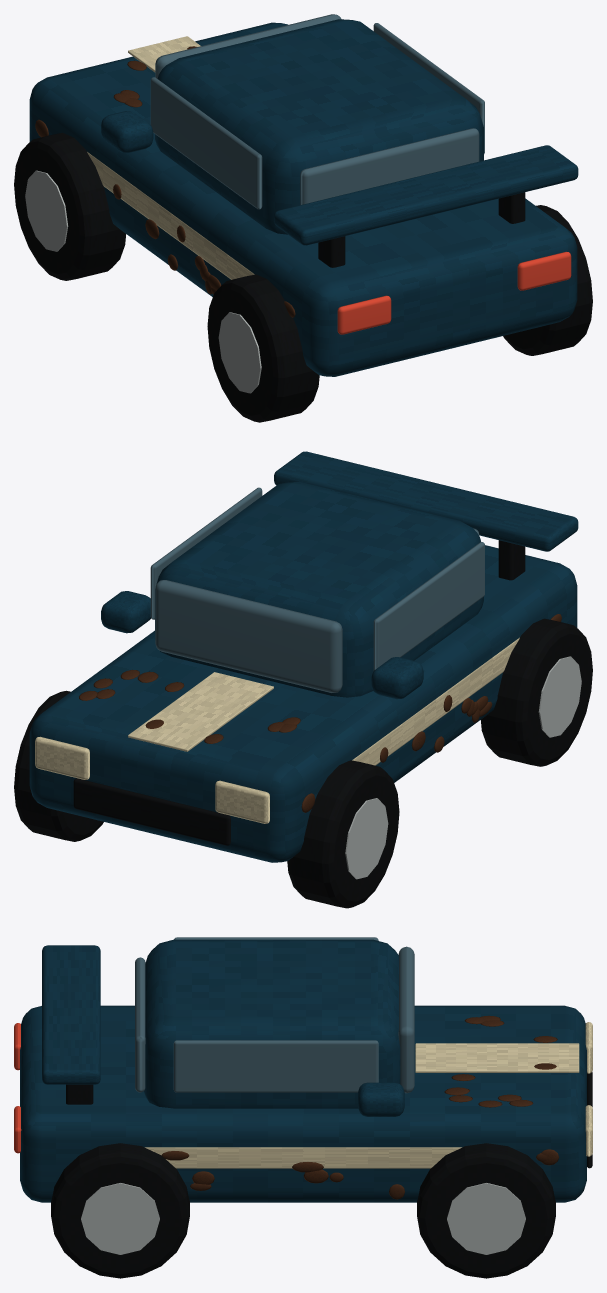
The model's file is clay-car.glb.
The picture shows the model from 3 angles, top to bottom: view 1: azimuth 30°, elevation 25°; view 2: azimuth 150°, elevation 25°; view 3: azimuth 270°, elevation 25°; orthographic projection. The views are drawn at different scales.
Parts seen in each view (by area): view 1: Rounded body, Windscreen, Rounded tyre.001, Rounded tyre, Door strip, Rounded tyre.002, Rear lens, Alloy hub, Alloy hub.001, Hand pressed mud fleck, Spoiler bracket; view 2: Rounded body, Windscreen, Door strip, Rounded tyre.001, Rounded tyre, Spoiler bracket, Rounded tyre.003, Hand pressed mud fleck, Alloy hub, Alloy hub.001; view 3: Rounded body, Windscreen, Door strip, Rounded tyre.002, Rounded tyre.003, Alloy hub.002, Alloy hub.003, Hand pressed mud fleck, Spoiler bracket, Rear lens.
Boxes of the visible parts, <box> form: Rounded body: <box>29,19,578,376</box>; Windscreen: <box>150,14,484,209</box>; Rounded tyre.001: <box>14,132,126,280</box>; Rounded tyre: <box>207,274,319,422</box>; Door strip: <box>87,36,254,279</box>; Rounded tyre.002: <box>503,205,592,355</box>; Rear lens: <box>337,251,571,334</box>; Alloy hub: <box>218,312,261,393</box>; Alloy hub.001: <box>25,170,68,251</box>; Hand pressed mud fleck: <box>35,46,295,317</box>; Spoiler bracket: <box>318,192,525,267</box>; Rounded body: <box>29,451,578,862</box>; Windscreen: <box>150,487,484,692</box>; Door strip: <box>35,637,519,823</box>; Rounded tyre.001: <box>287,760,399,908</box>; Rounded tyre: <box>481,618,592,766</box>; Spoiler bracket: <box>73,540,525,845</box>; Rounded tyre.003: <box>14,690,103,841</box>; Hand pressed mud fleck: <box>79,614,561,812</box>; Alloy hub: <box>538,656,581,737</box>; Alloy hub.001: <box>345,798,388,879</box>; Rounded body: <box>20,939,586,1202</box>; Windscreen: <box>135,937,414,1093</box>; Door strip: <box>145,1022,592,1168</box>; Rounded tyre.002: <box>51,1143,189,1278</box>; Rounded tyre.003: <box>417,1143,555,1278</box>; Alloy hub.002: <box>81,1183,159,1254</box>; Alloy hub.003: <box>447,1183,525,1254</box>; Hand pressed mud fleck: <box>161,1015,559,1199</box>; Spoiler bracket: <box>66,1072,592,1168</box>; Rear lens: <box>14,1023,21,1153</box>.
Size of the model in its own units: 2.57 by 1.85 by 4.24.
7 materials, 4 textured.
